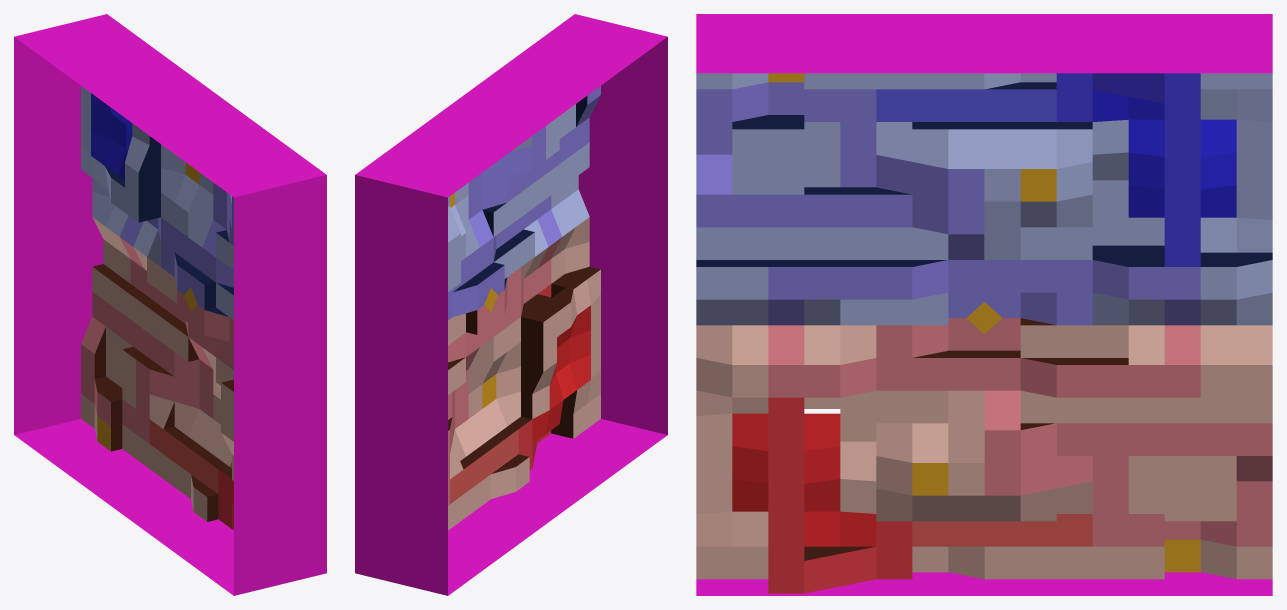
File: tdm_battlefield.fbx
The picture shows the model from 3 angles, left to right: view 1: azimuth 30°, elevation 25°; view 2: azimuth 150°, elevation 25°; view 3: azimuth 270°, elevation 25°; orthographic projection. The views are drawn at different scales.
Visible parts, largest first — view 1: Map; view 2: Map; view 3: Map.
Part boxes in pixels (left/top/right/bottom): Map: left=14, top=14, right=326, bottom=595; Map: left=355, top=14, right=667, bottom=595; Map: left=696, top=14, right=1272, bottom=595.
Size of the model in its own units: 12500 by 51200 by 51201.
